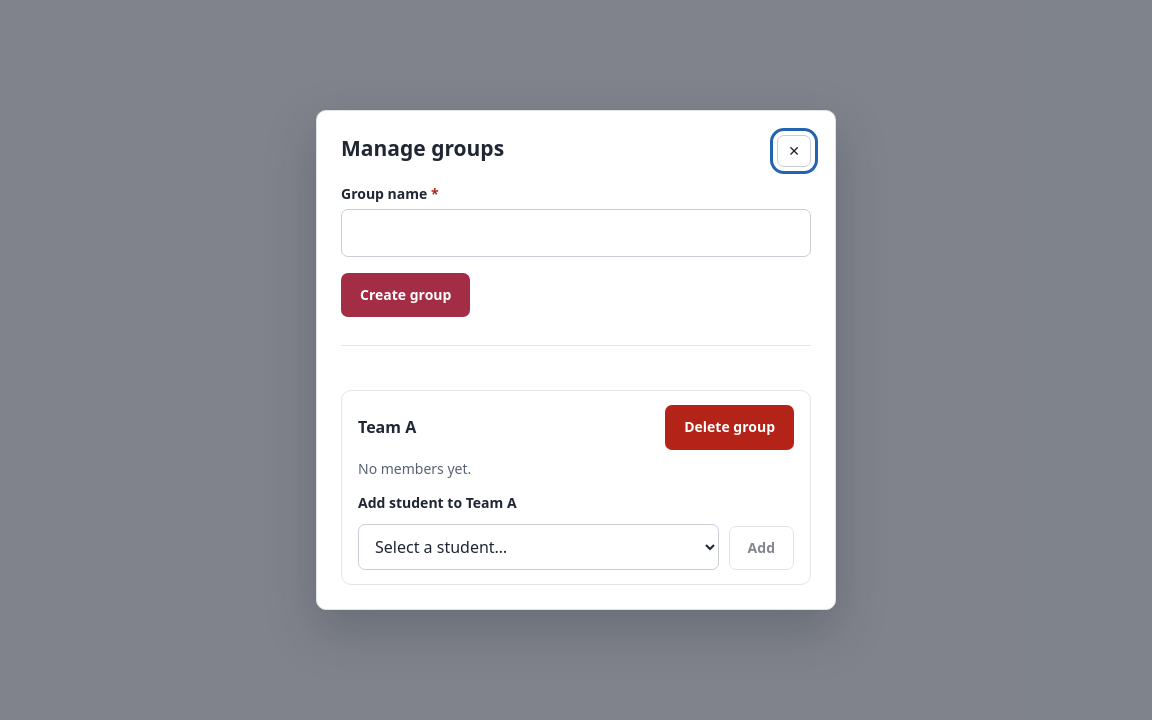
Test: ManageGroupsModal › shows the server error when adding a student fails
The width and height of the screenshot is (1152, 720).
Select "Bob Studentson (bob@example.com)" in the dropdown labelled "Add student to Team A": x=538, y=548 [358, 524, 719, 570]
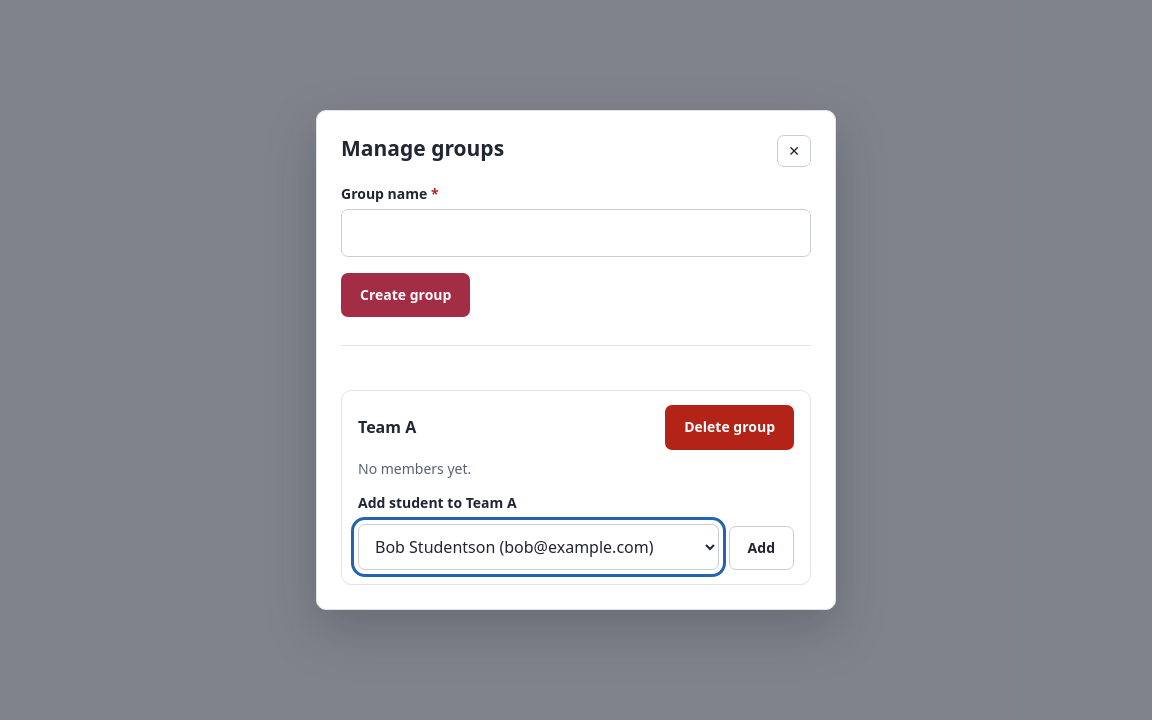
Click the button "Add": x=761, y=548 [729, 526, 794, 570]
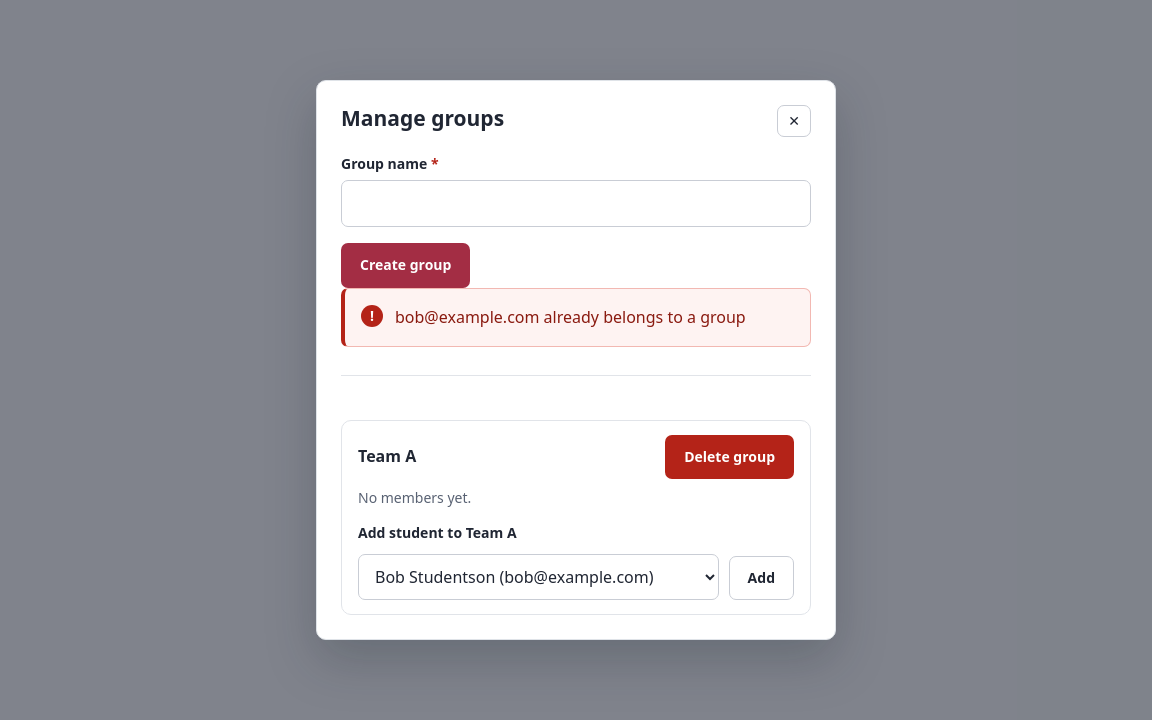
Result: the message shows "already belongs to a group" at [395, 306, 746, 328]
